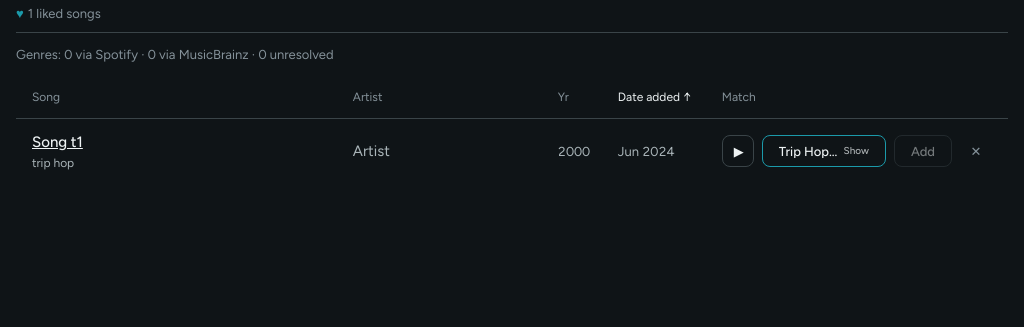
marks the already-in playlist in the picker instead of hiding it
Click the button "Trip Hop · 90% Show": (824, 151) [762,135,886,167]
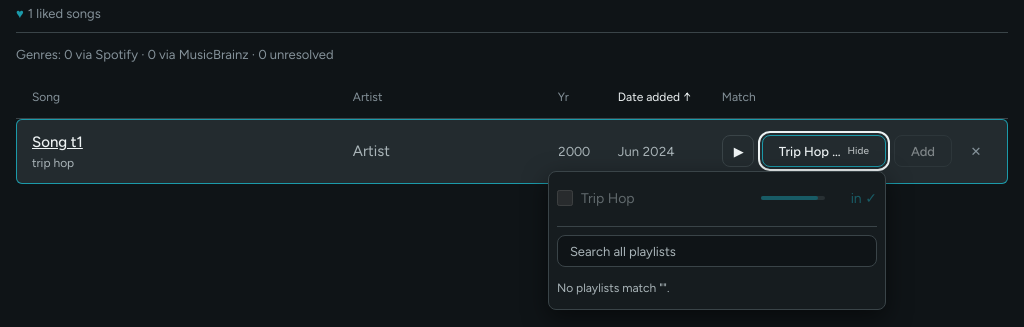
Expected: the label with class "is-dupe" shows "Trip Hop", [581,190,635,207]
Expected: the checkbox labelled "Trip Hop in ✓" is disabled, [557,190,573,206]
